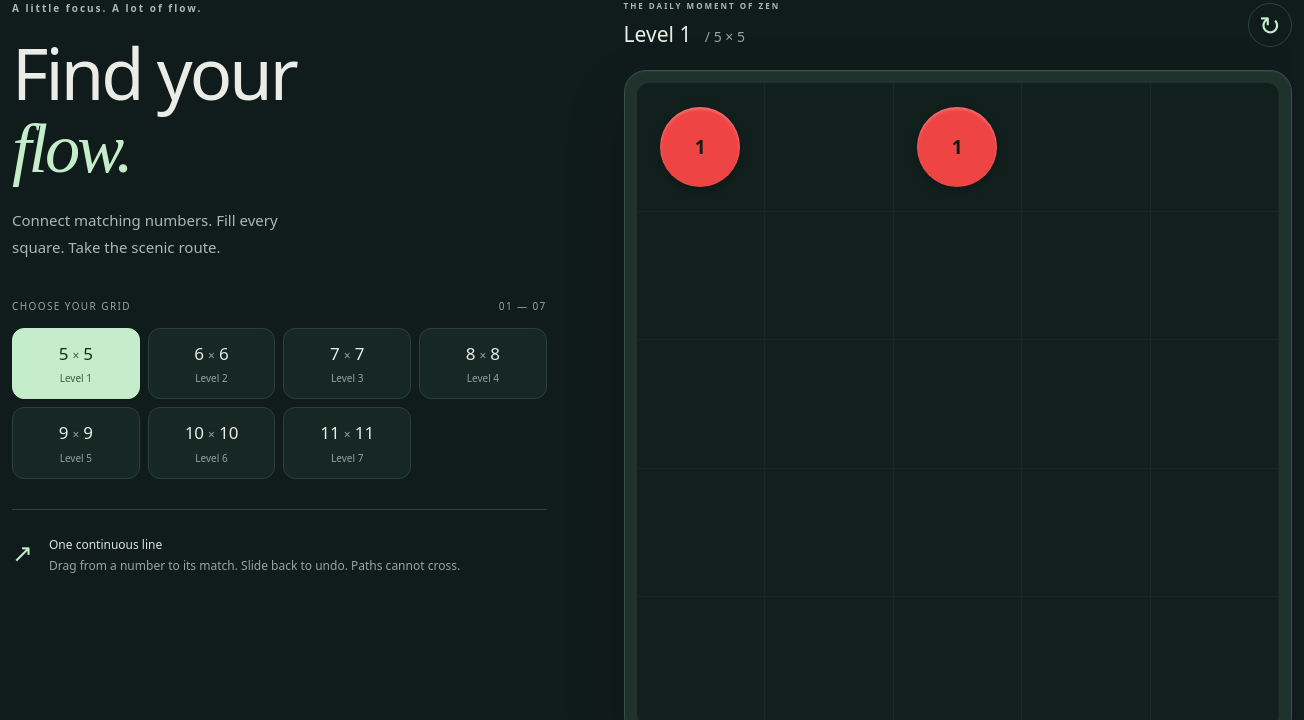
Test case: FlowGame pointer interaction › generates the selected level once and clears paths
Press the mouse on the 1st element showing "1" at (701, 148), box 636,83 -> 765,212
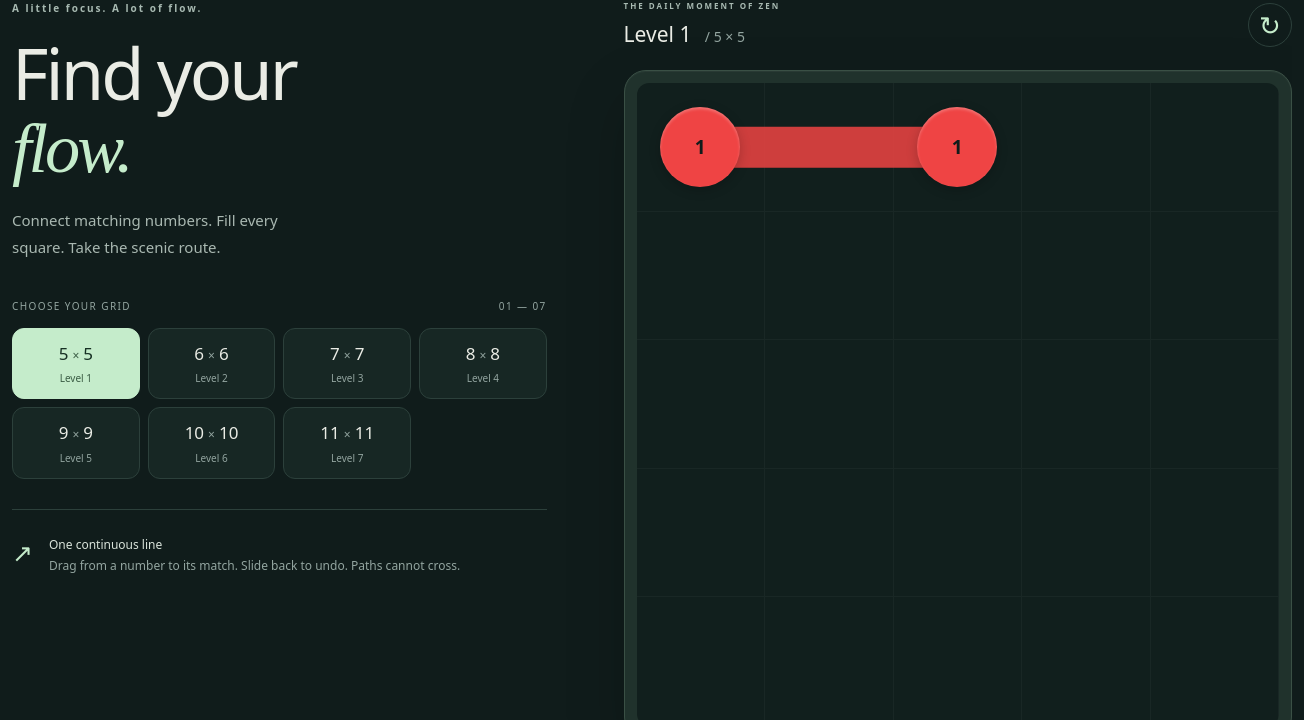
Click the button with aria-label "Lvl 2". click: (212, 363)
box: 148,328 -> 275,399
(page scrolled)
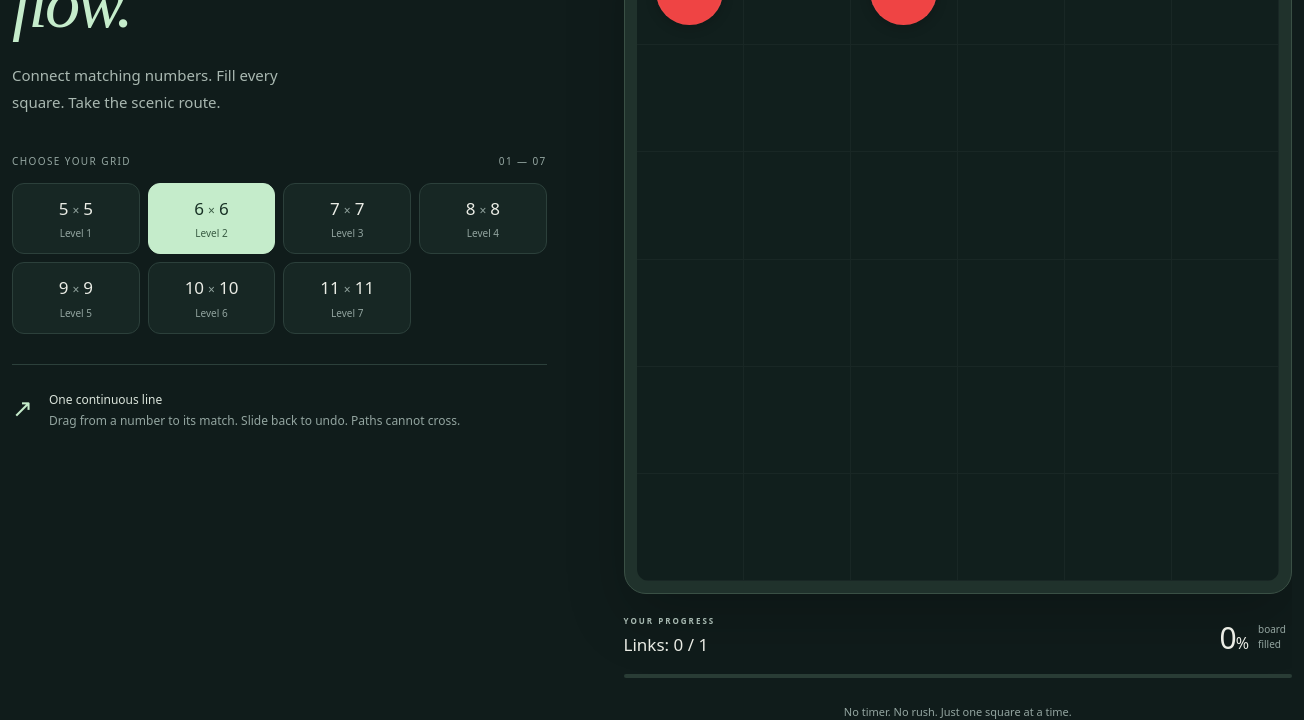
Now the text "Links: 0 / 1" is shown, box 624,632 -> 708,656
